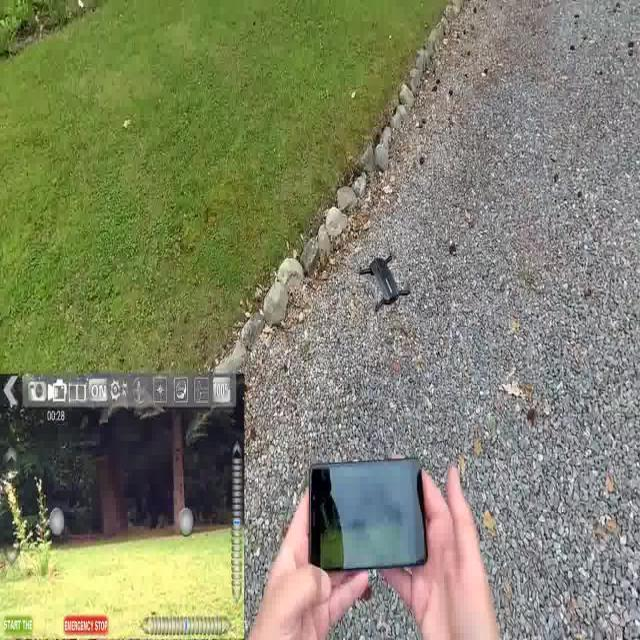drones: (355, 247, 417, 312)
